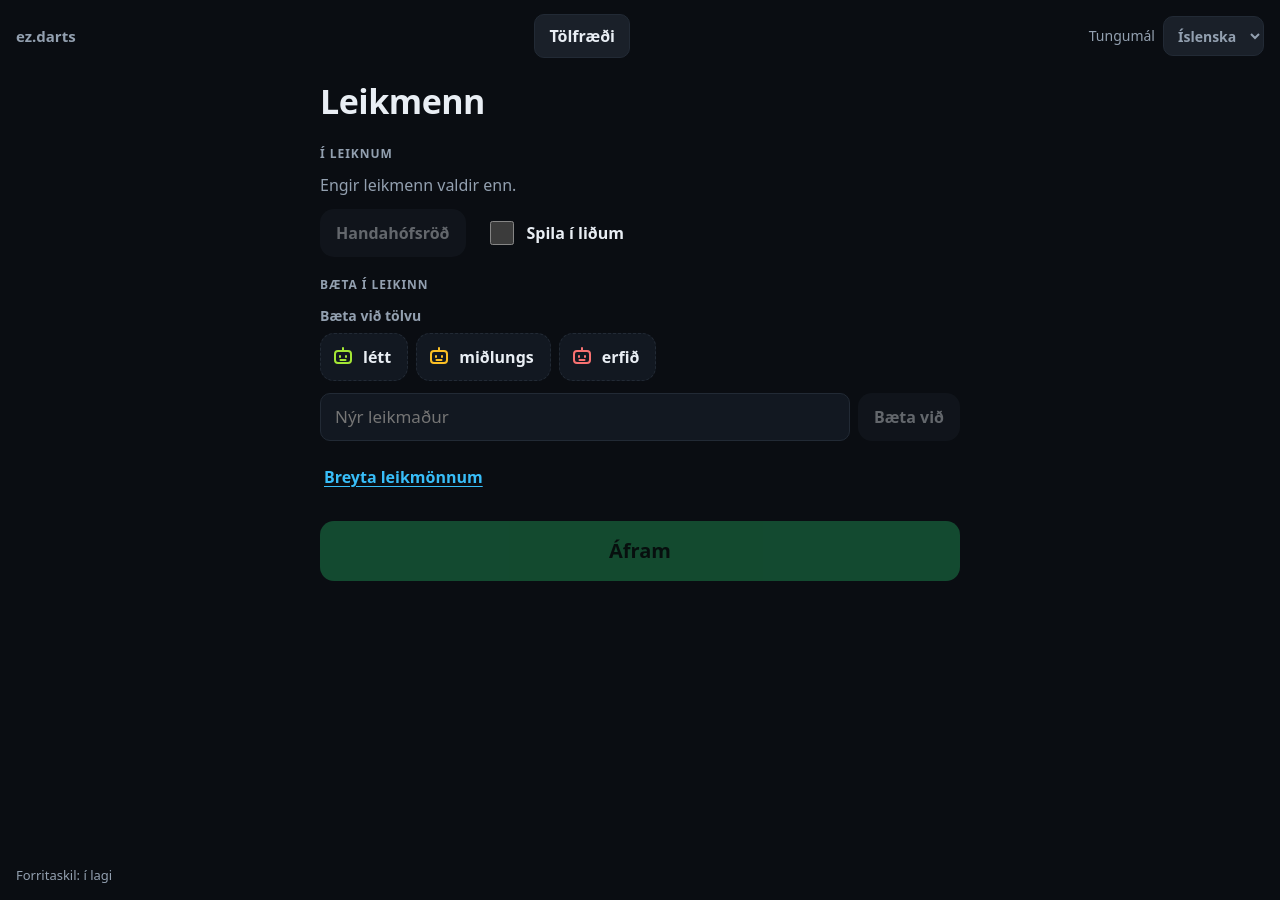
it: App › switches to English and remembers the choice on this device
Expected: the heading "Leikmenn" is shown, x1=320 y1=78 x2=485 y2=124
Expected: the text "Forritaskil: í lagi" is shown, x1=16 y1=866 x2=112 y2=884
Select "English" in the dropdown labelled "Tungumál" at (1214, 36), box x1=1163 y1=16 x2=1264 y2=56
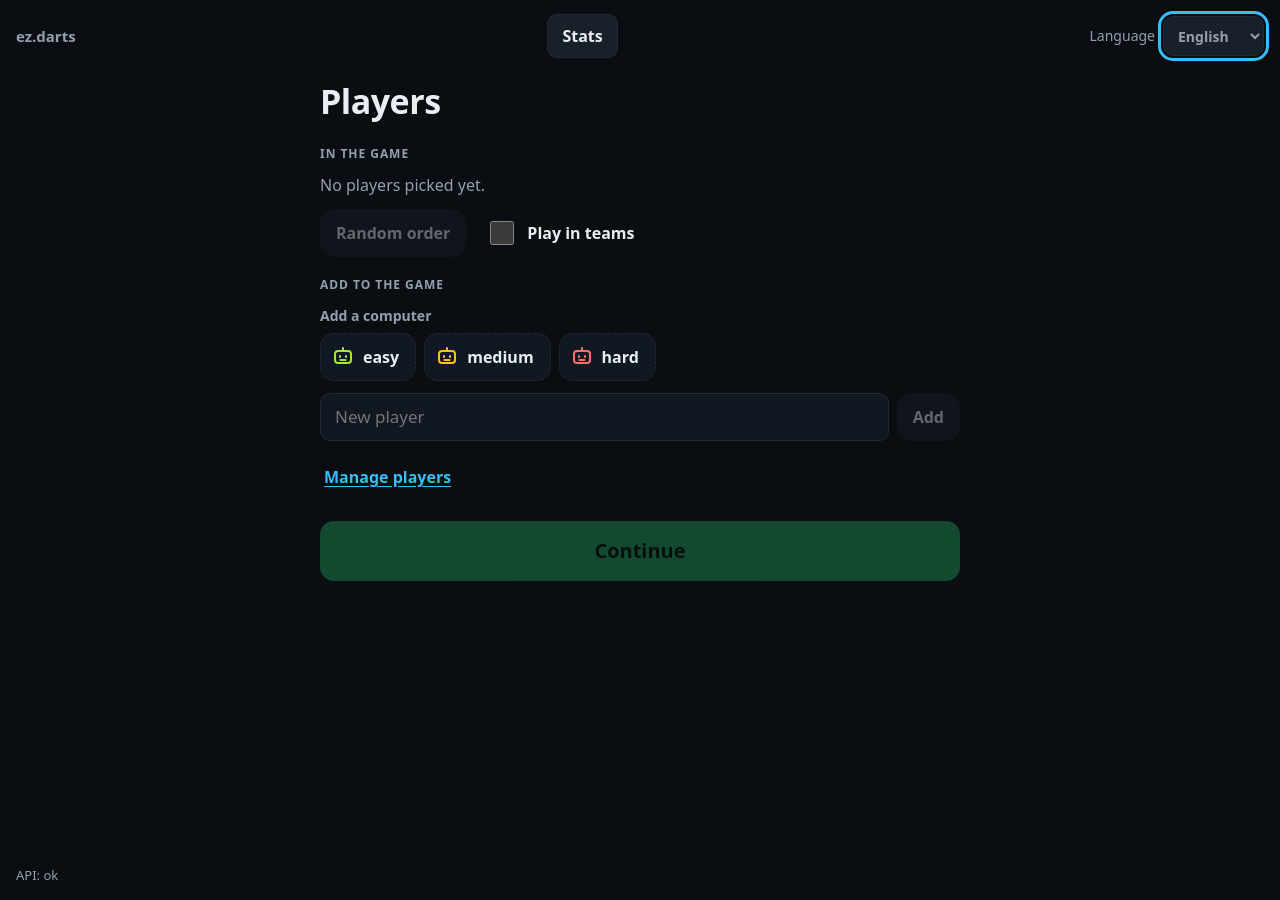
Now the text "API: ok" is shown, box x1=16 y1=866 x2=58 y2=884
